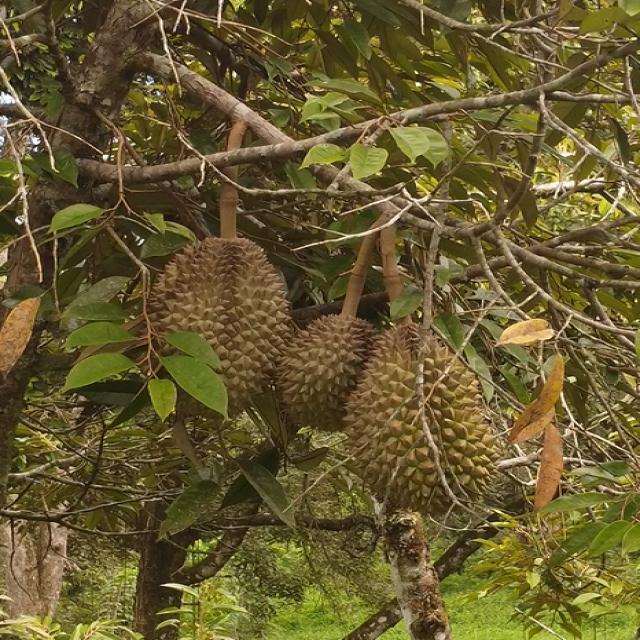mature: (150, 238, 292, 411)
